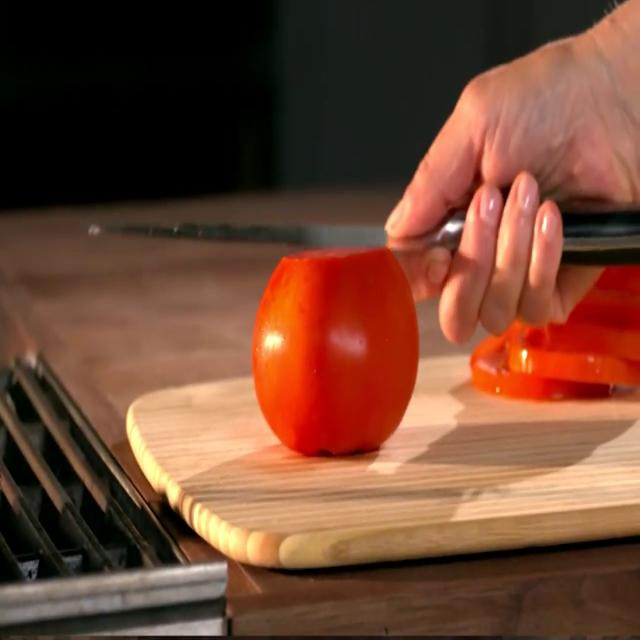Knife_Handle: (89, 0, 640, 348)
